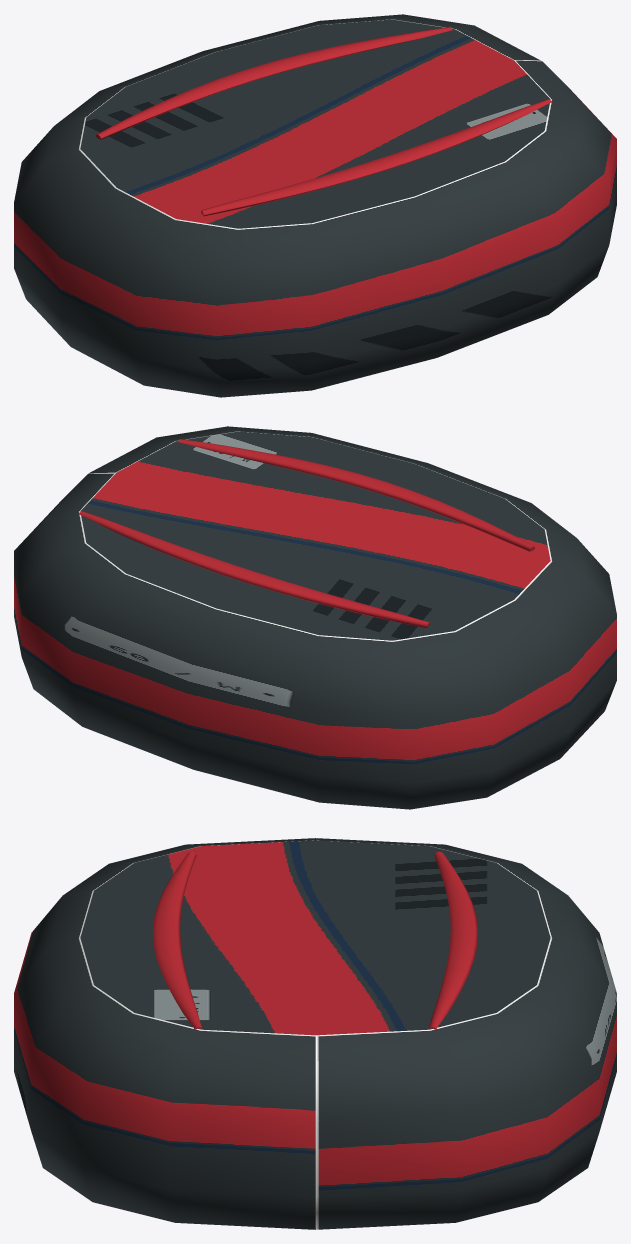
File: MotorCowl_09_R_朱差し・折返し.glb
3 renders of one model, top to bottom at view 1: azimuth 30°, elevation 25°; view 2: azimuth 150°, elevation 25°; view 3: azimuth 270°, elevation 25°, orthographic. The views are drawn at different scales.
Visible parts, largest first — view 1: MotorCowl_09_R; view 2: MotorCowl_09_R; view 3: MotorCowl_09_R.
Boxes of the visible parts, <box> form: MotorCowl_09_R: <box>14,14,616,397</box>; MotorCowl_09_R: <box>14,426,616,809</box>; MotorCowl_09_R: <box>14,838,616,1229</box>.
Size of the model in its own units: 0.332 by 0.1192 by 0.286.
Materials: 1 (1 with a texture image).
